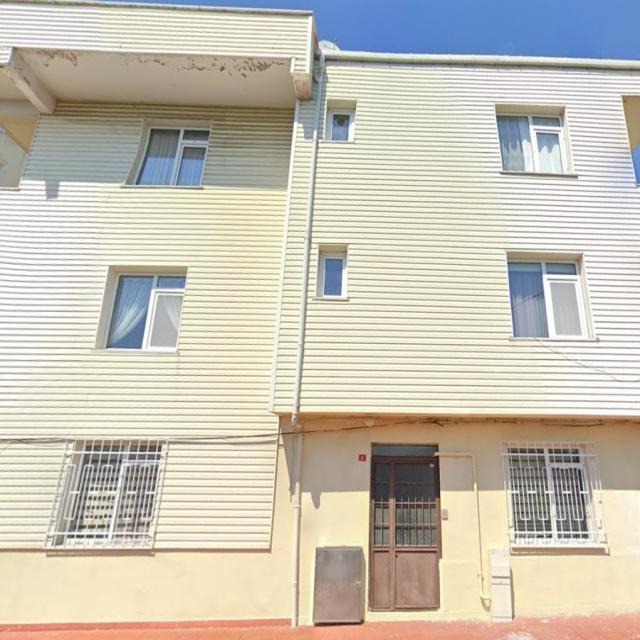Building: (0, 0, 640, 631)
